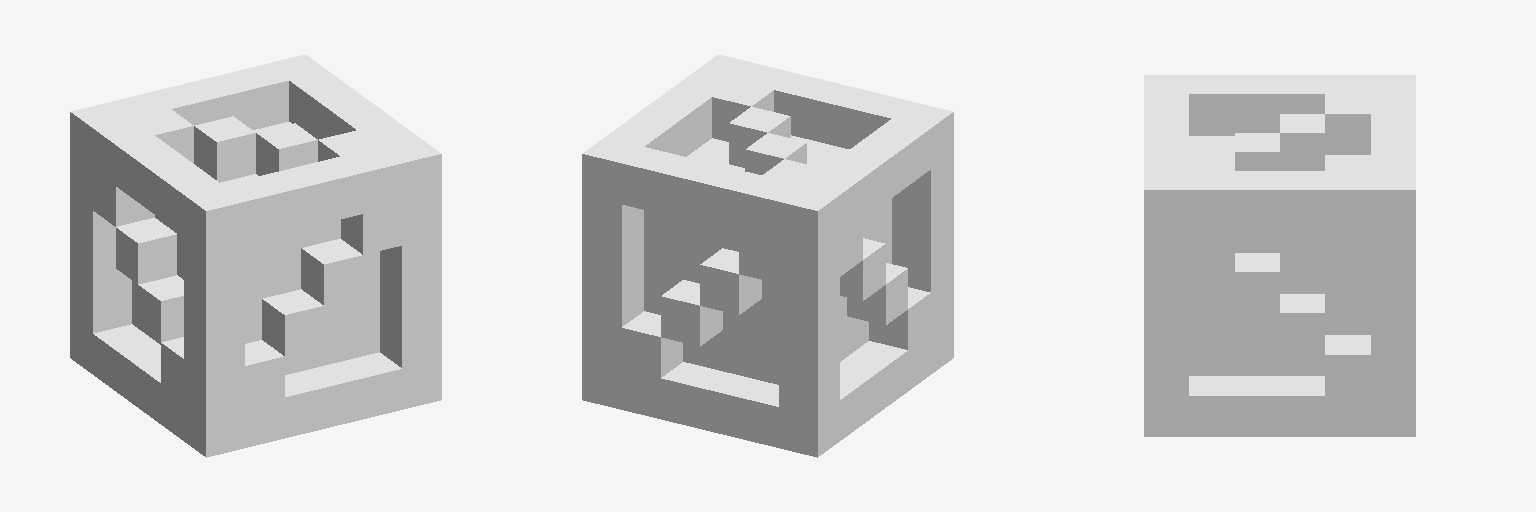
The model's file is SH_Enviorment-29-Crate_C.obj.
3 renders of one model, left to right at view 1: azimuth 30°, elevation 25°; view 2: azimuth 150°, elevation 25°; view 3: azimuth 270°, elevation 25°, orthographic.
Parts seen in each view (by area): view 1: Crate_C; view 2: Crate_C; view 3: Crate_C.
Boxes of the visible parts, x1,y1,x2,y2 form: Crate_C: [70, 54, 441, 457]; Crate_C: [582, 54, 953, 457]; Crate_C: [1144, 75, 1415, 436].
Size of the model in its own units: 0.6 by 0.6 by 0.6.